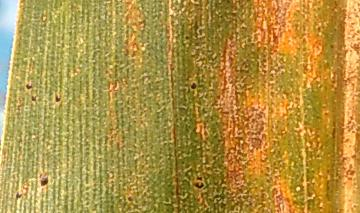tarspot: (37, 171, 51, 192), (191, 180, 210, 191), (12, 188, 24, 204), (48, 93, 64, 104), (186, 80, 200, 91), (23, 80, 35, 92), (29, 92, 39, 104), (193, 174, 204, 181)
